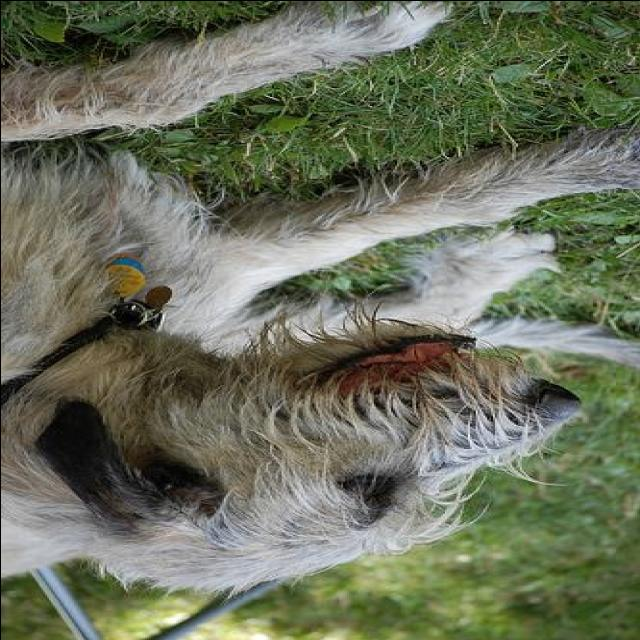irish_wolfhound: (0, 3, 636, 595)
